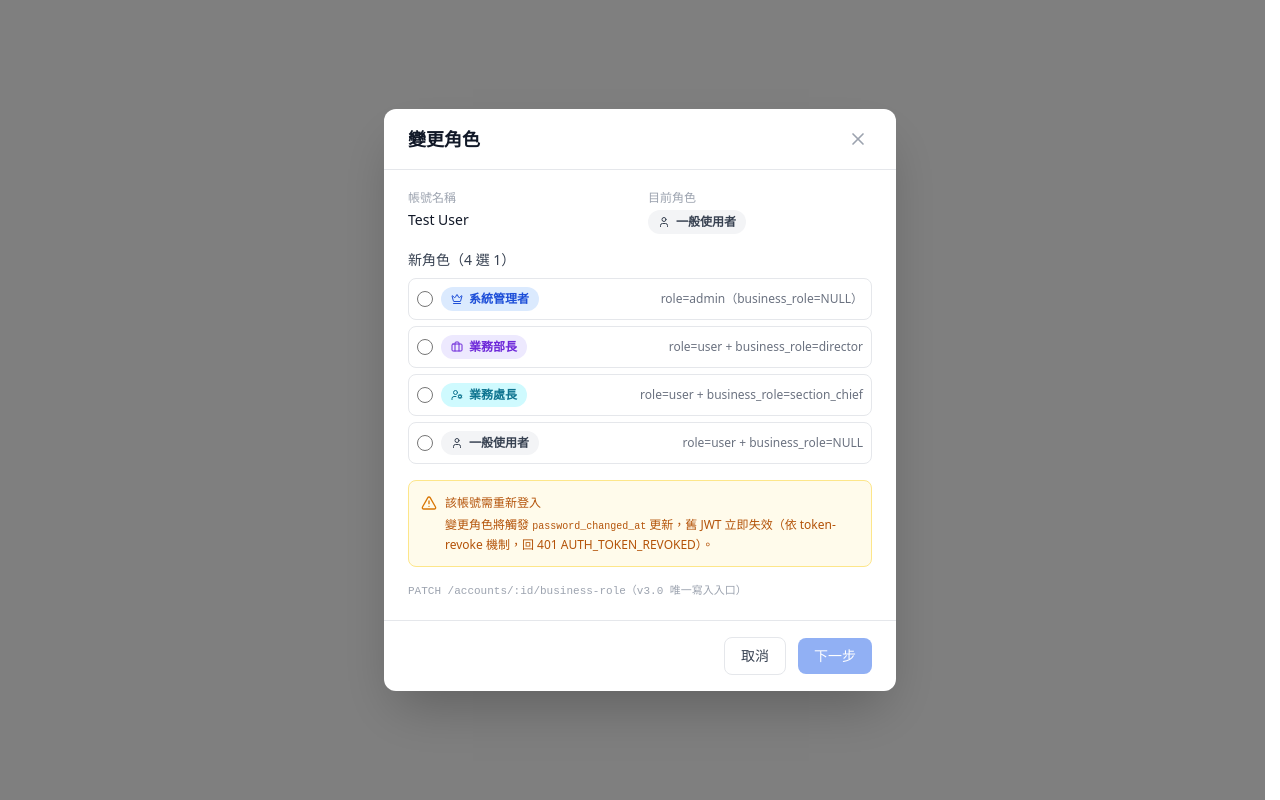
ChangeRoleDialog (F006a / AD-E07 v3.0) › 選擇不同身份後，「下一步」按鈕可點擊並顯示 before→after 預覽
Step 1. Click the radio button with test id "new-role-director" → click(425, 347), box x1=417 y1=339 x2=433 y2=355
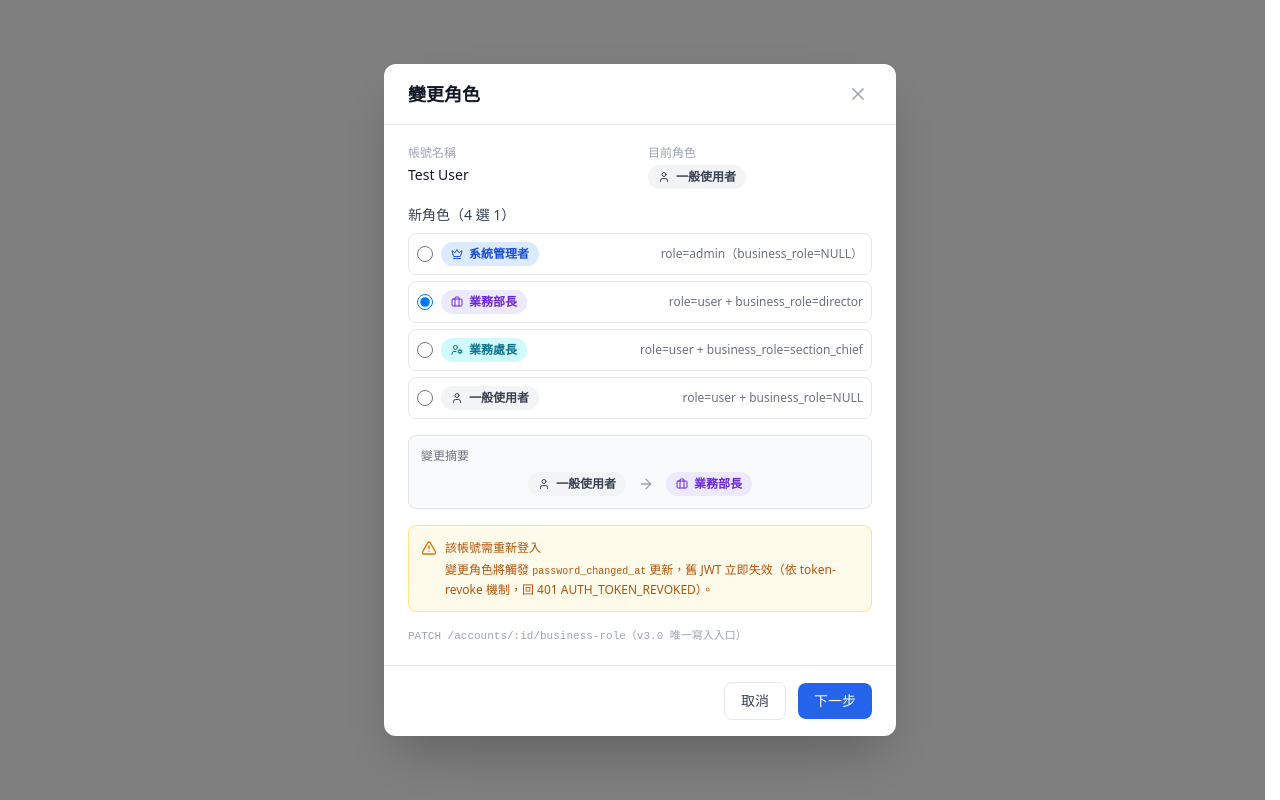
Expected: the button "下一步" is enabled, x1=798 y1=683 x2=872 y2=719
Expected: the element with test id "role-preview-box" is shown, x1=408 y1=435 x2=872 y2=509
